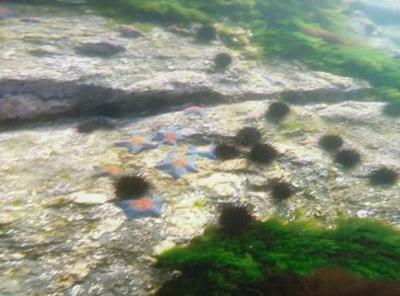urchin: (222, 202, 255, 230), (115, 173, 148, 198), (334, 144, 361, 168), (372, 163, 396, 186), (253, 142, 280, 162), (215, 142, 240, 162), (236, 125, 262, 144), (320, 131, 344, 150), (266, 101, 290, 119), (272, 182, 293, 200), (215, 50, 235, 68), (200, 24, 218, 41)
